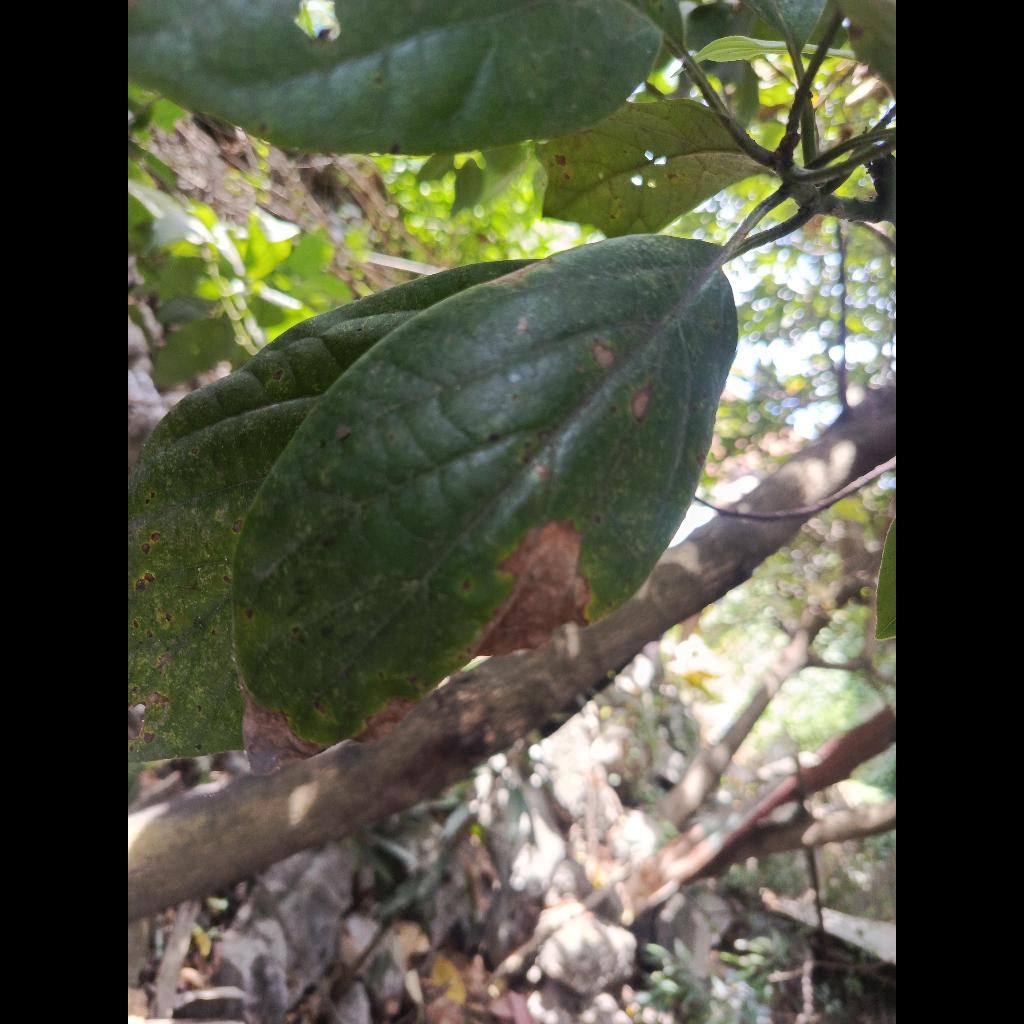Anthracnose: (234, 235, 737, 745)
